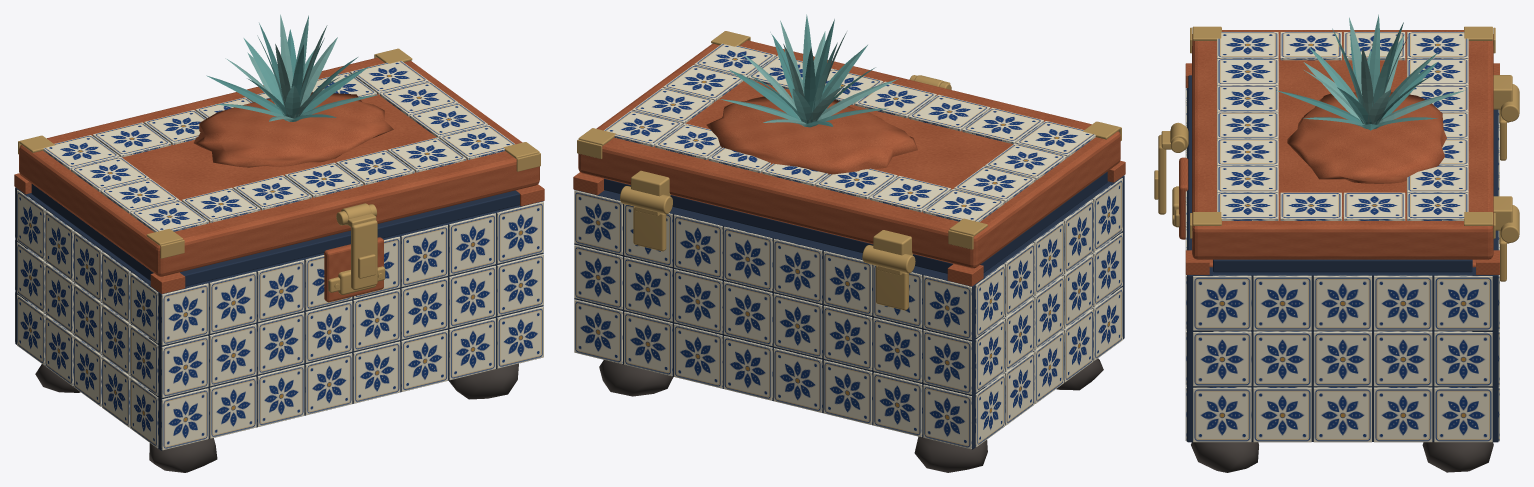
The model's file is mexico.glb.
The picture shows the model from 3 angles, left to right: view 1: azimuth 30°, elevation 25°; view 2: azimuth 150°, elevation 25°; view 3: azimuth 270°, elevation 25°; orthographic projection. The views are drawn at different scales.
Parts seen in each view (by area): view 1: Lid / polished slab, Agave / soil island, Mineral seam / long, Grout / front rear bed, Ceramic tile / front rear.017, Ceramic tile / front rear.016, Ceramic tile / front rear.004, Ceramic tile / front rear.009, Ceramic tile / front rear.011, Ceramic tile / front rear.018, Ceramic tile / front rear, Ceramic tile / front rear.001 (+56 smaller); view 2: Lid / polished slab, Agave / soil island, Grout / front rear bed.001, Mineral seam / long.001, Ceramic tile / front rear.043, Ceramic tile / front rear.044, Ceramic tile / front rear.027, Ceramic tile / front rear.028, Ceramic tile / front rear.033, Ceramic tile / front rear.034, Ceramic tile / front rear.035, Ceramic tile / front rear.025 (+63 smaller); view 3: Lid / polished slab, Agave / soil island, Grout / side bed.001, Mineral seam / side.001, Ceramic tile / side.016, Ceramic tile / side.021, Ceramic tile / side.026, Ceramic tile / side.015, Ceramic tile / side.017, Ceramic tile / side.018, Ceramic tile / side.019, Ceramic tile / side.023 (+53 smaller).
Boxes of the visible parts, x1=… form: Lid / polished slab: x1=19, y1=57, x2=539, y2=276; Agave / soil island: x1=194, y1=92, x2=393, y2=167; Mineral seam / long: x1=180, y1=190, x2=519, y2=286; Grout / front rear bed: x1=149, y1=201, x2=543, y2=450; Ceramic tile / front rear.017: x1=209, y1=271, x2=256, y2=333; Ceramic tile / front rear.016: x1=161, y1=283, x2=208, y2=345; Ceramic tile / front rear.004: x1=353, y1=341, x2=400, y2=403; Ceramic tile / front rear.009: x1=209, y1=324, x2=256, y2=386; Ceramic tile / front rear.011: x1=305, y1=300, x2=352, y2=362; Ceramic tile / front rear.018: x1=257, y1=260, x2=304, y2=321; Ceramic tile / front rear: x1=161, y1=388, x2=208, y2=450; Ceramic tile / front rear.001: x1=209, y1=376, x2=256, y2=438; Lid / polished slab: x1=578, y1=40, x2=1120, y2=268; Agave / soil island: x1=706, y1=94, x2=917, y2=174; Grout / front rear bed.001: x1=574, y1=189, x2=985, y2=449; Mineral seam / long.001: x1=604, y1=178, x2=952, y2=273; Ceramic tile / front rear.043: x1=773, y1=238, x2=822, y2=303; Ceramic tile / front rear.044: x1=723, y1=226, x2=772, y2=291; Ceramic tile / front rear.027: x1=773, y1=348, x2=822, y2=412; Ceramic tile / front rear.028: x1=723, y1=336, x2=772, y2=400; Ceramic tile / front rear.033: x1=873, y1=317, x2=922, y2=382; Ceramic tile / front rear.034: x1=823, y1=305, x2=872, y2=370; Ceramic tile / front rear.035: x1=773, y1=293, x2=822, y2=358; Ceramic tile / front rear.025: x1=873, y1=372, x2=922, y2=437; Lid / polished slab: x1=1192, y1=30, x2=1493, y2=259; Agave / soil island: x1=1287, y1=92, x2=1446, y2=183; Grout / side bed.001: x1=1209, y1=267, x2=1475, y2=441; Mineral seam / side.001: x1=1213, y1=259, x2=1472, y2=272; Ceramic tile / side.016: x1=1253, y1=387, x2=1311, y2=442; Ceramic tile / side.021: x1=1253, y1=331, x2=1311, y2=386; Ceramic tile / side.026: x1=1253, y1=275, x2=1311, y2=330; Ceramic tile / side.015: x1=1193, y1=387, x2=1251, y2=442; Ceramic tile / side.017: x1=1313, y1=387, x2=1371, y2=442; Ceramic tile / side.018: x1=1374, y1=387, x2=1432, y2=442; Ceramic tile / side.019: x1=1434, y1=387, x2=1492, y2=442; Ceramic tile / side.023: x1=1374, y1=331, x2=1432, y2=386.
Size of the model in its own units: 3.74 by 3.25 by 2.88.
Materials: 8 (2 with a texture image).
